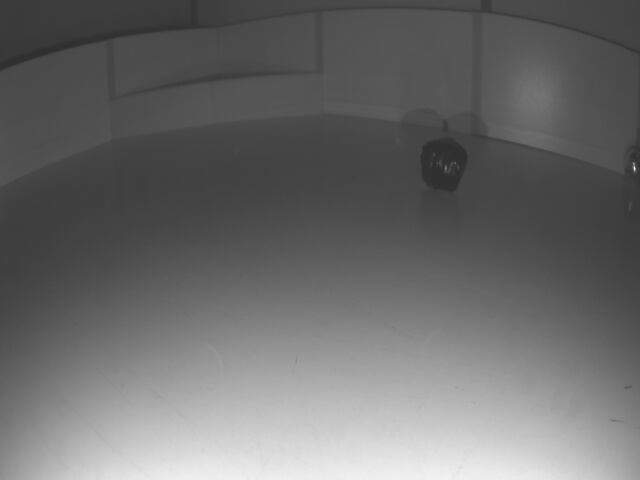Dead: (420, 136, 467, 190)
Live: (623, 147, 640, 180)
Point: (114, 74, 321, 140)
